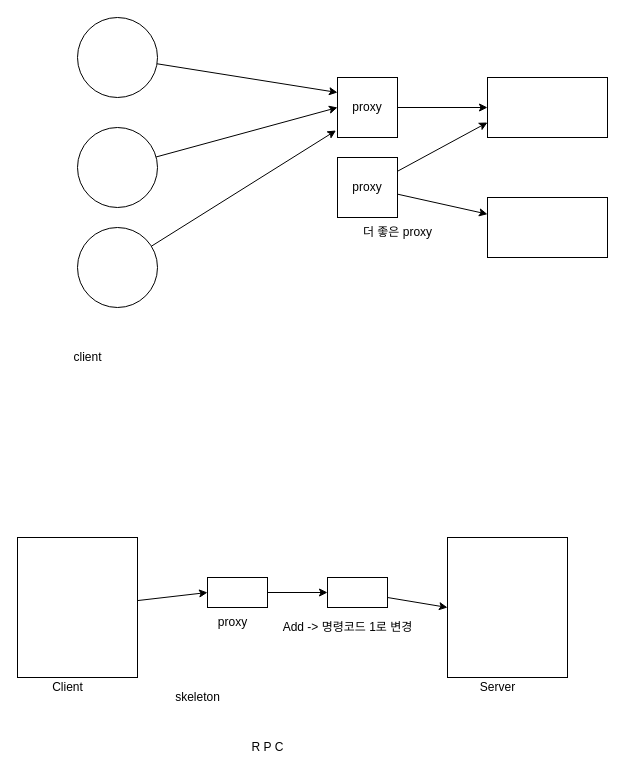
Some shapes in this 625 by 780 pixel diagram are drawn without their labels. The shapes that lost their labels are listed below. From the top down, each one's centre as x and y in pixels, then its label:
At pixel 547 107: "서버".
At pixel 547 227: "백업서버".
